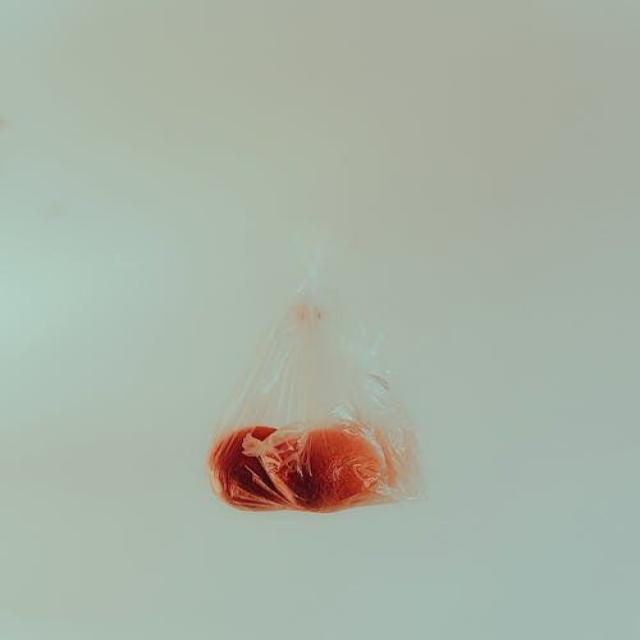plastic: (216, 254, 372, 414)
trash: (182, 293, 442, 536)
